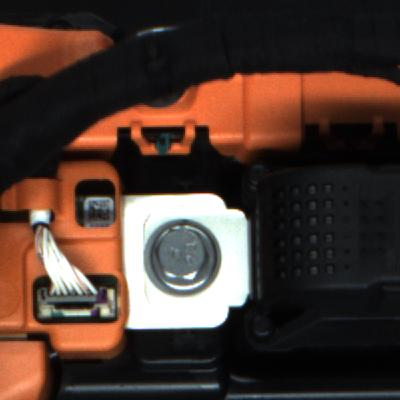nut_b: (137, 208, 229, 306)
